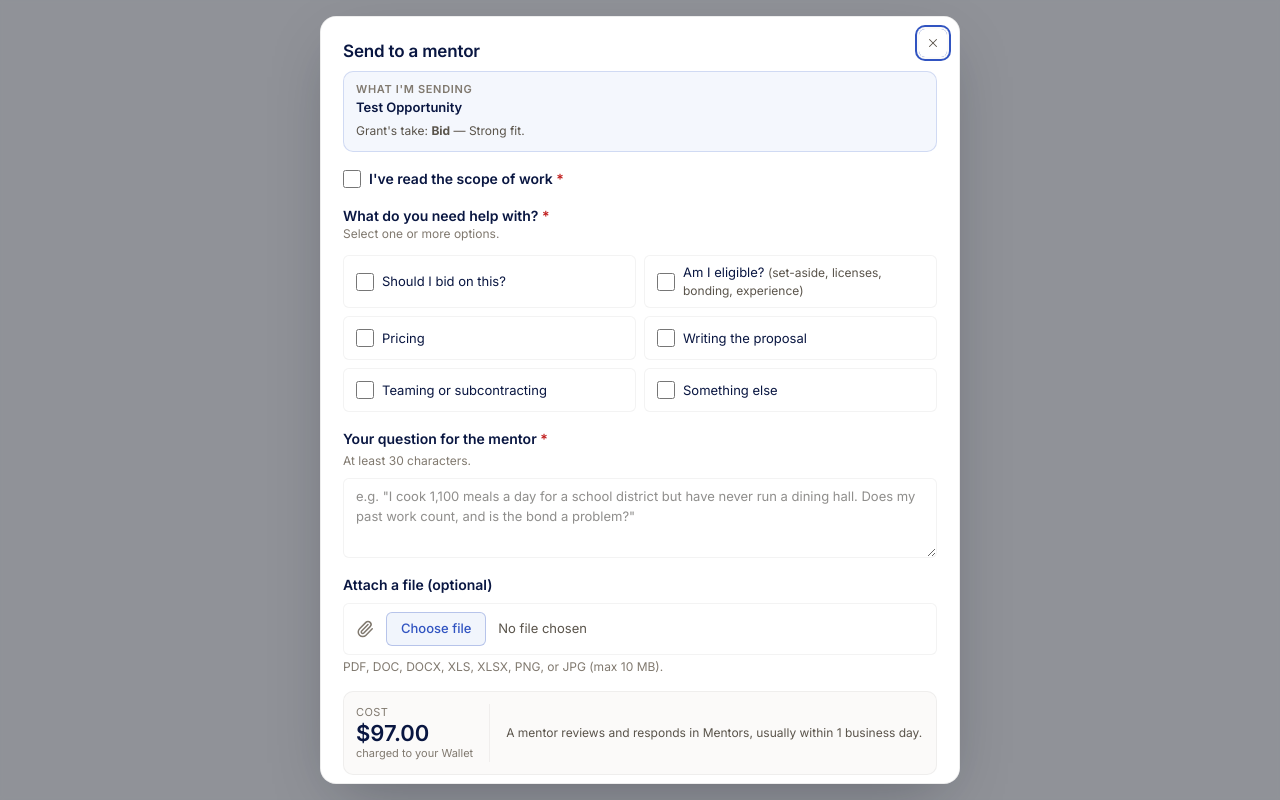
it: SendToMentorModal — recharge polling › polls while short and flips to the sendable state once the recharge lands
Later steps or results of the test are not shown.
Click the checkbox labelled "I've read the scope of work *": (352, 179) [343, 170, 361, 188]
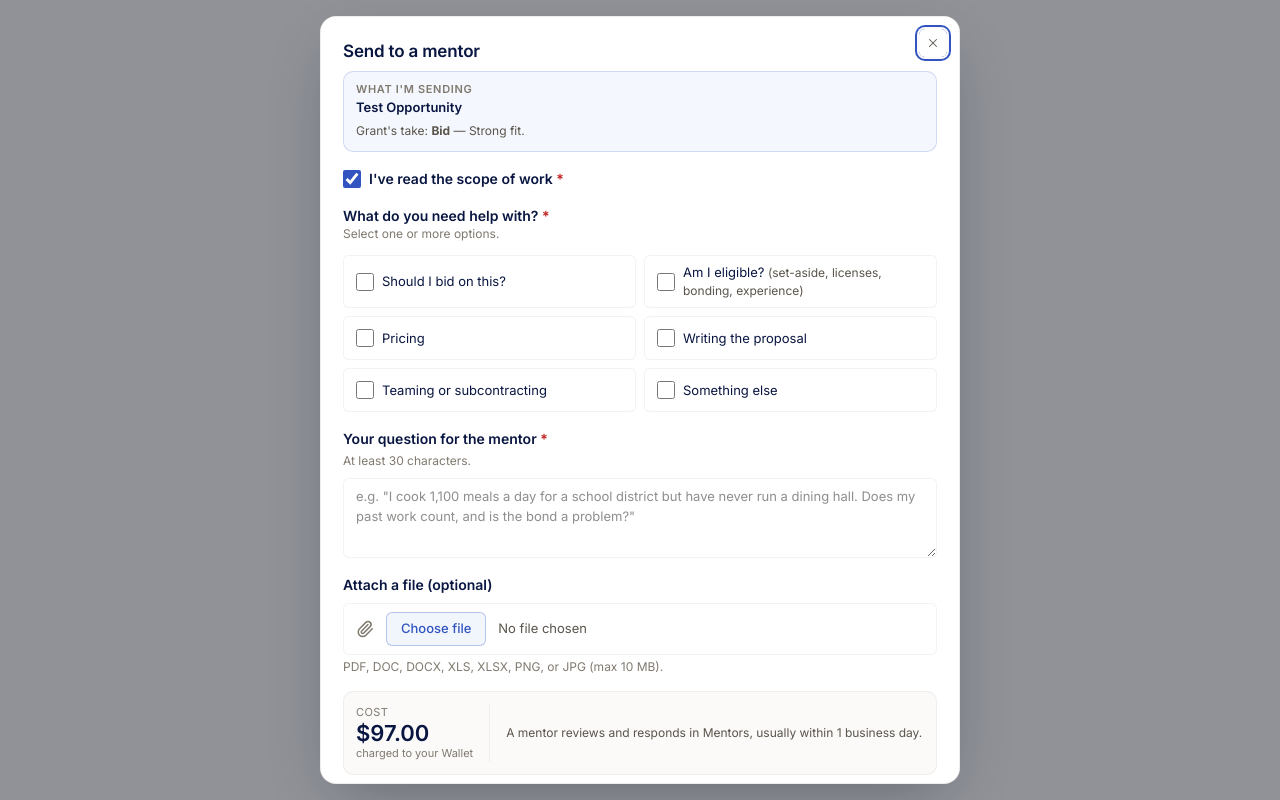
Click the checkbox labelled "Should I bid on this?": (365, 282) [356, 273, 374, 291]
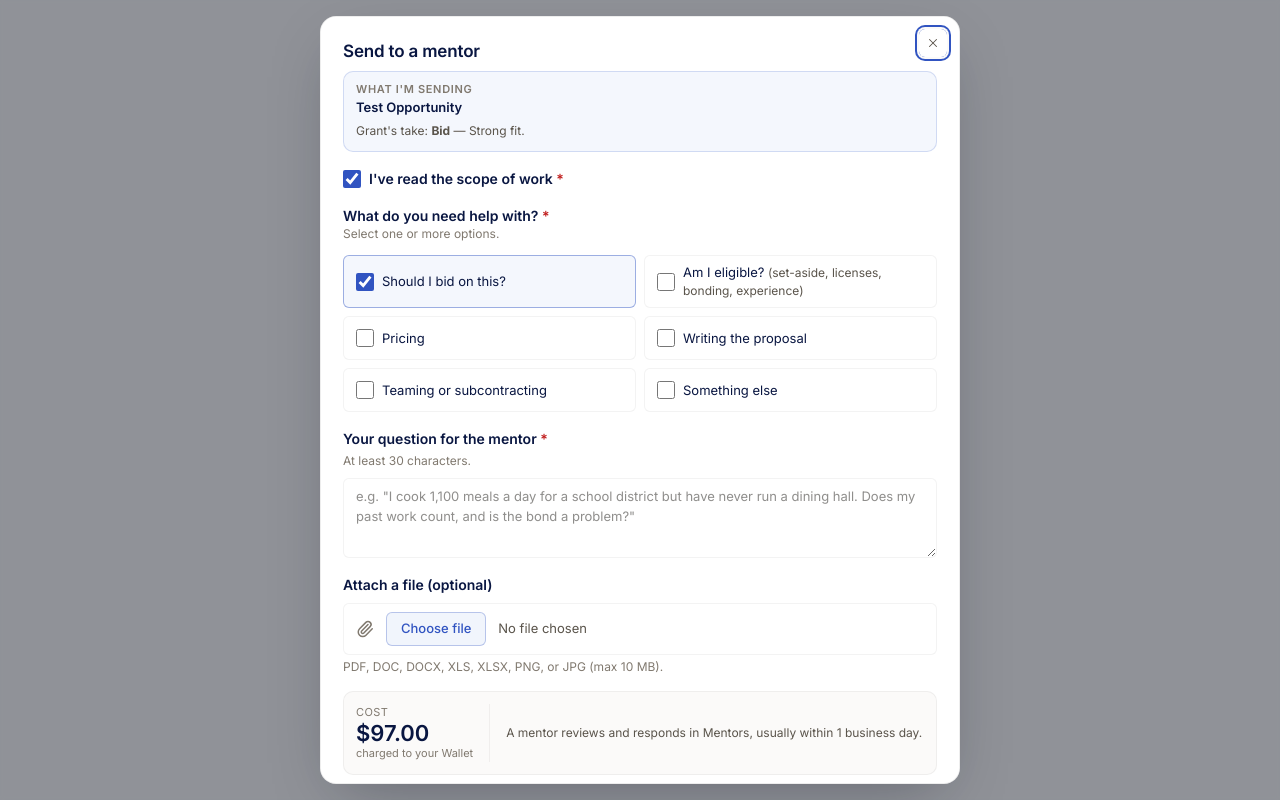
Replace the text in the text box labelled "Your question for the mentor *" with "Is my roofing past performance enough for this water plant job?": (640, 518) [343, 478, 937, 558]
Wait 1000 ms
(page scrolled)
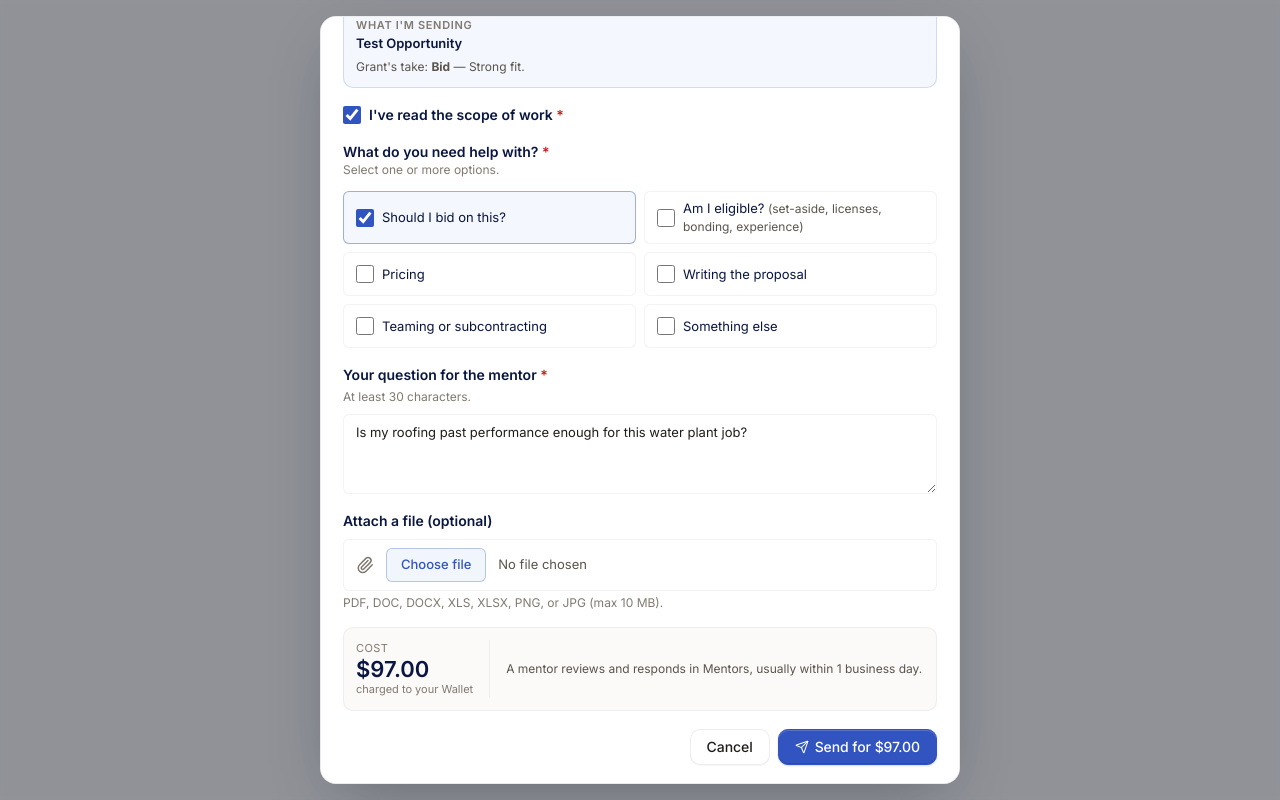
Expected: the button "Send for $97.00" is enabled, [778, 729, 937, 765]
